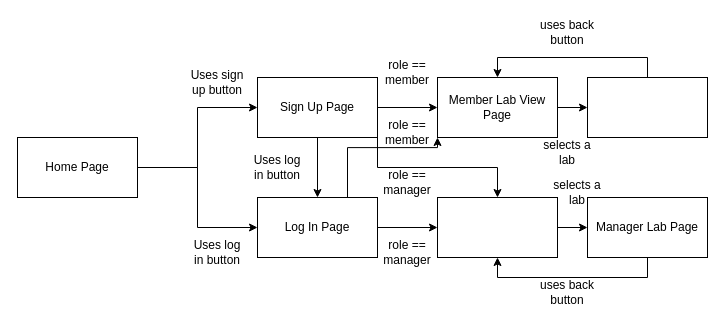
Image size: 725x324. Some labels were removed from this diagram. The shapes that lost their labels are listed below. From the top down, each one's centre as x and y in pixels, then its label:
At point (647, 107): "Member Lab Page".
At point (497, 227): "Manager Lab View Page".
